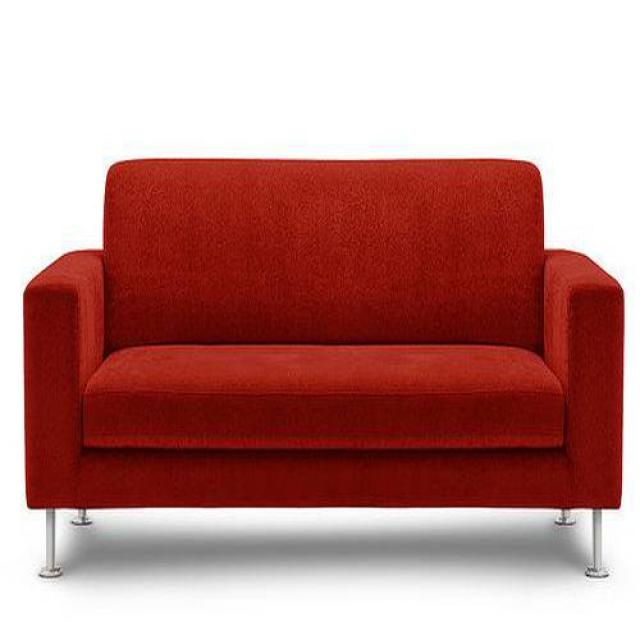sofa: (26, 157, 627, 580)
